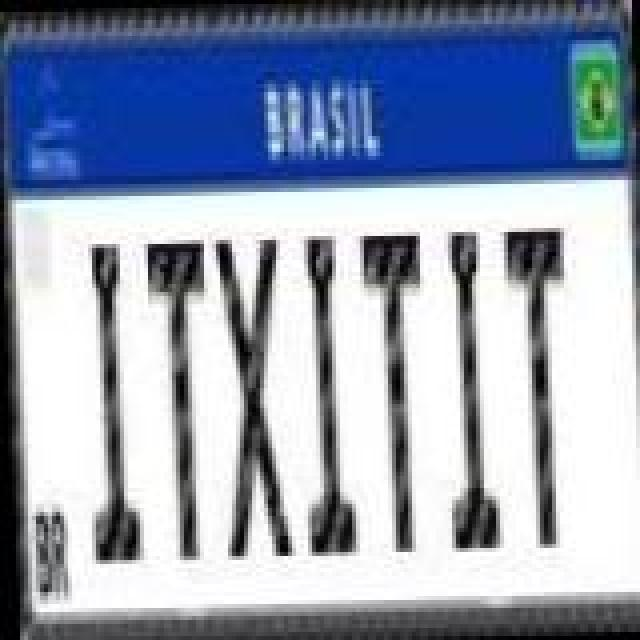I: (432, 220, 500, 556), (76, 238, 144, 562), (288, 230, 356, 554)
T: (140, 236, 216, 560), (356, 228, 432, 552), (496, 222, 572, 546)
X: (208, 230, 292, 558)
